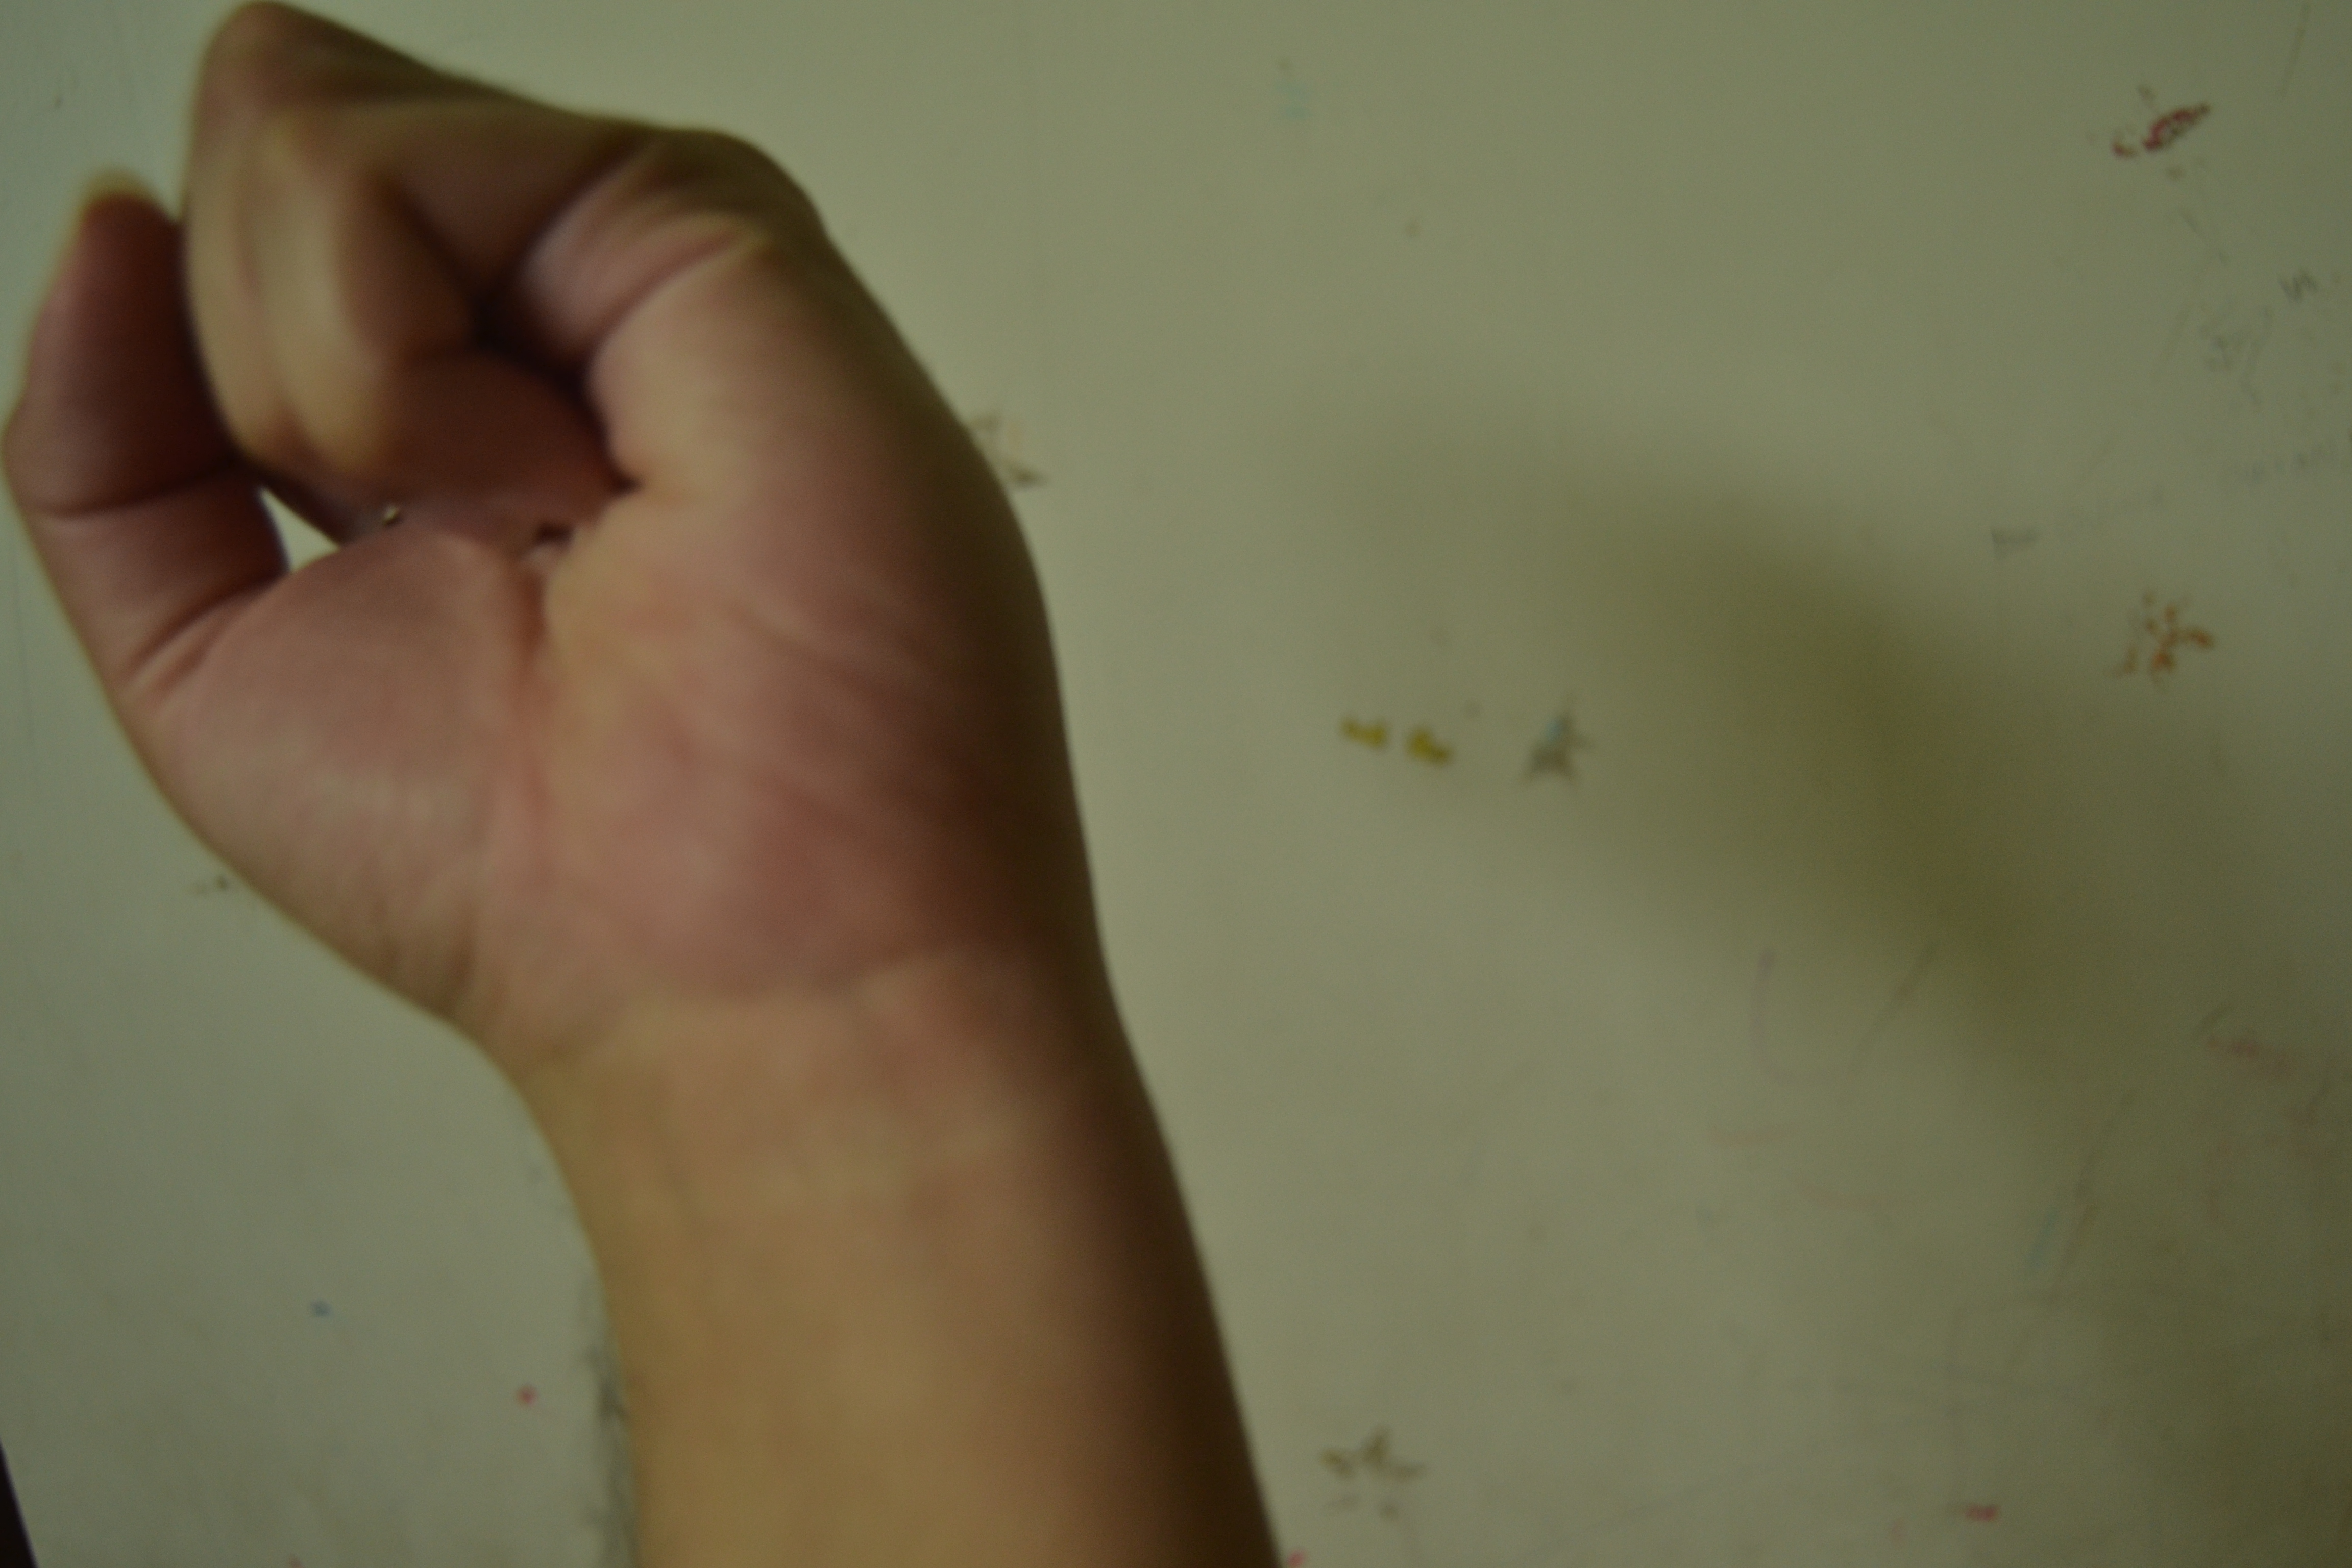click: (33, 0, 1148, 957)
